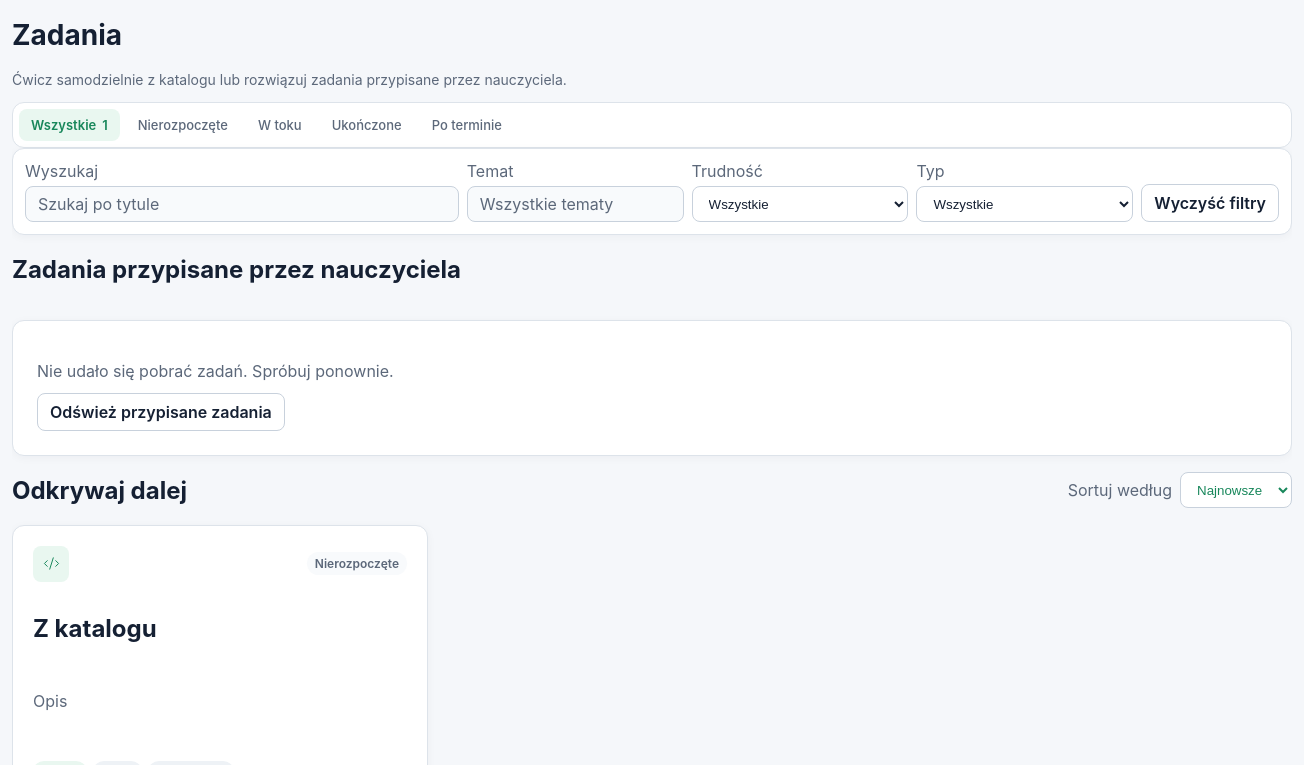
Test: retries assigned tasks independently from the catalogue
Expected: the message "Nie udało się pobrać zadań. Spróbuj ponownie. Odśwież przypisane zadania" is shown, left=12, top=320, right=1292, bottom=456
Expected: the link "Z katalogu" is shown, left=33, top=614, right=157, bottom=643
Click the button "Odśwież przypisane zadania" at (161, 412), box left=37, top=393, right=285, bottom=431
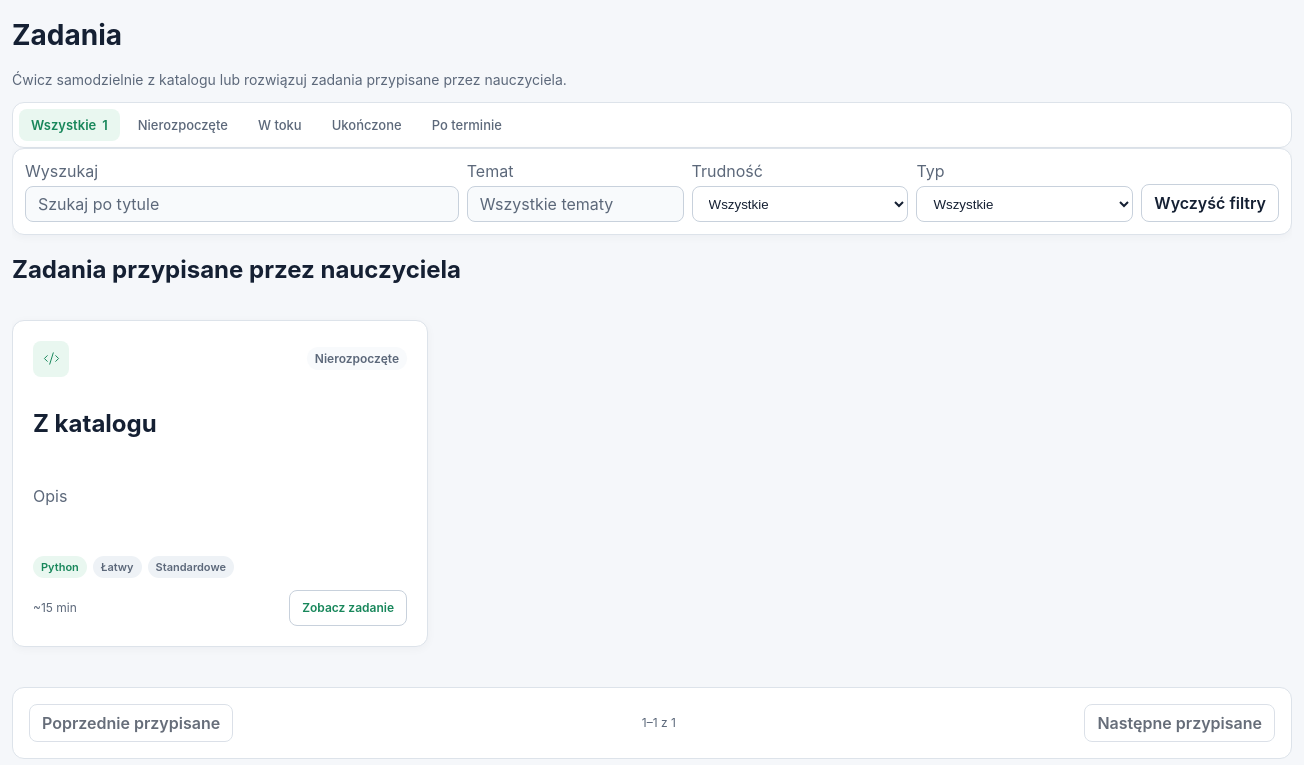
Expected: the link "Z katalogu" is shown, left=33, top=409, right=157, bottom=438
